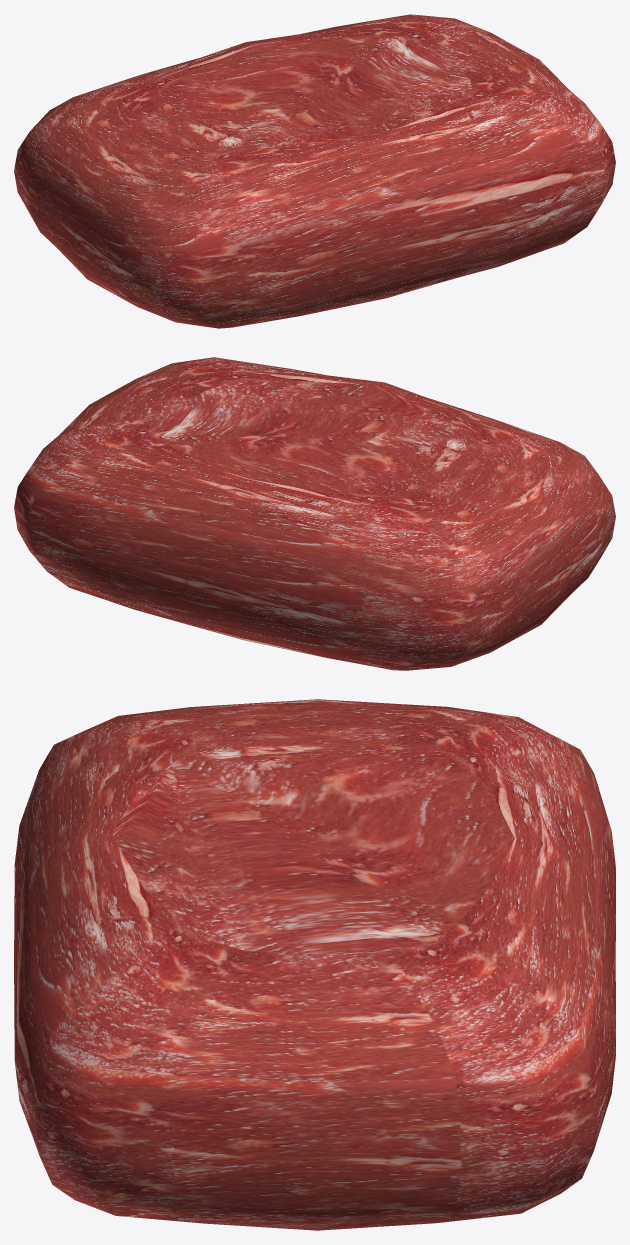
The model's file is MeatBlock1FBX.fbx.
3 renders of one model, top to bottom at view 1: azimuth 30°, elevation 25°; view 2: azimuth 150°, elevation 25°; view 3: azimuth 270°, elevation 25°, orthographic. The views are drawn at different scales.
Parts seen in each view (by area): view 1: pCube2; view 2: pCube2; view 3: pCube2.
Boxes of the visible parts, x1,y1,x2,y2 form: pCube2: [14, 14, 615, 328]; pCube2: [14, 357, 615, 670]; pCube2: [14, 699, 615, 1230].
Bounding box in the file's own units: 1.46 × 0.479 × 0.9932.
1 material, 1 textured.
